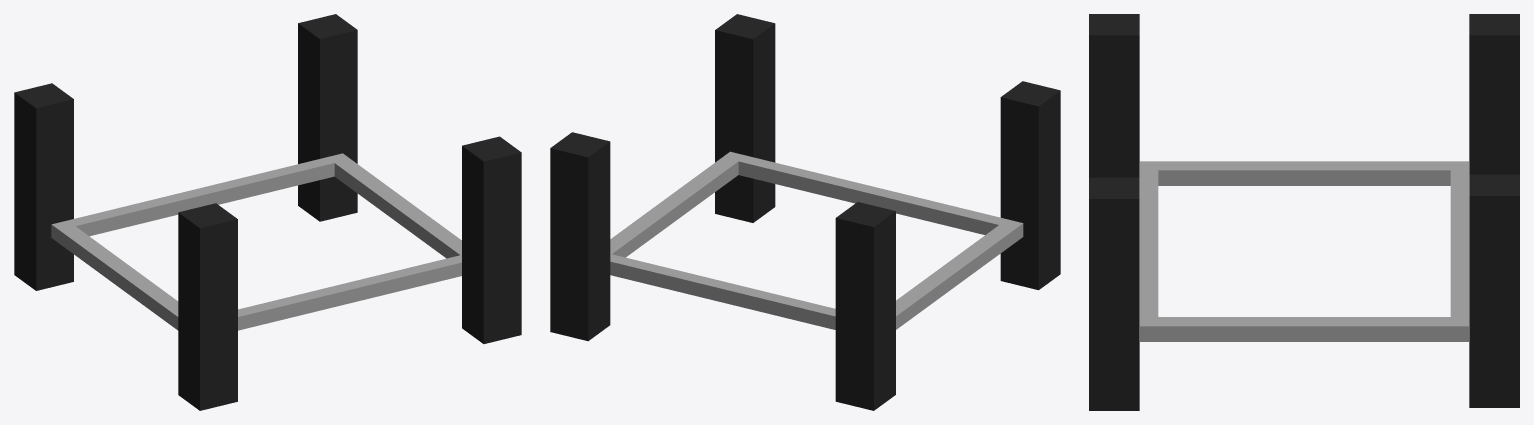
3 views of the same model, side by side, from view 1: azimuth 30°, elevation 25°; view 2: azimuth 150°, elevation 25°; view 3: azimuth 270°, elevation 25° (orthographic). The views are drawn at different scales.
Visible parts, largest first — view 1: Glow, Fence1, Fence2, Fence3, Fence4; view 2: Glow, Fence3, Fence4, Fence2, Fence1; view 3: Glow, Fence1, Fence4, Fence2, Fence3.
Boxes of the visible parts, <box> form: Glow: <box>51,153,461,330</box>; Fence1: <box>462,136,521,343</box>; Fence2: <box>178,203,237,410</box>; Fence3: <box>14,83,73,290</box>; Fence4: <box>298,14,357,221</box>; Glow: <box>610,151,1023,329</box>; Fence3: <box>835,202,895,410</box>; Fence4: <box>550,132,610,341</box>; Fence2: <box>1000,81,1060,290</box>; Fence1: <box>715,14,775,222</box>; Glow: <box>1140,161,1468,341</box>; Fence1: <box>1089,177,1139,410</box>; Fence4: <box>1469,174,1519,407</box>; Fence2: <box>1089,14,1139,177</box>; Fence3: <box>1469,14,1519,174</box>.
Bounding box in the file's own units: 8.5 × 4.68 × 8.5.
